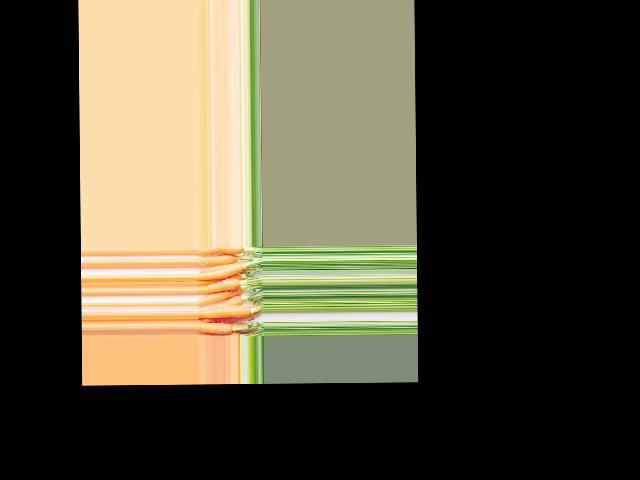carrot: (195, 322, 239, 336)
